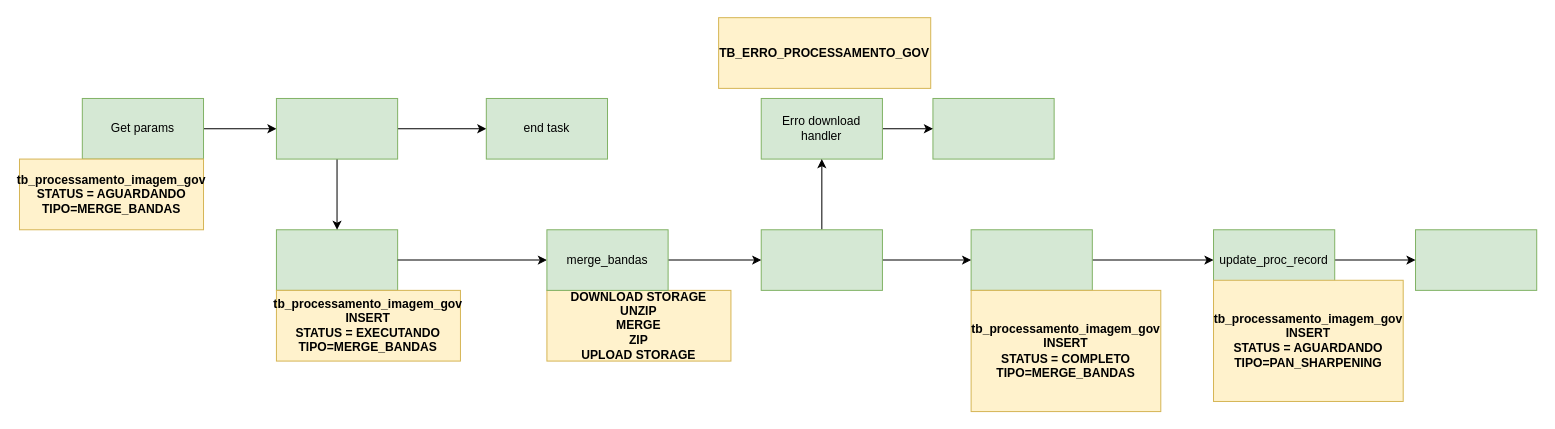
The diagram is 1555 pixels wide and 429 high, and some of its shapes have lost their labels. The centre of each missing label's shape, as x and y in pixels:
end task error: the point at 993,128
end task success: the point at 1476,259
has params: the point at 336,128
insert status complete: the point at 1031,259
insert status executando: the point at 336,259
process success: the point at 821,259
